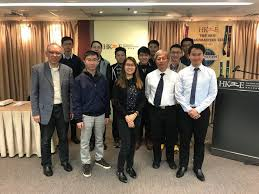F_M_suit jacket: (30, 61, 76, 121)
F_shirt: (177, 64, 220, 114), (144, 65, 178, 108)
F_tie: (190, 66, 199, 106), (155, 72, 165, 107)
